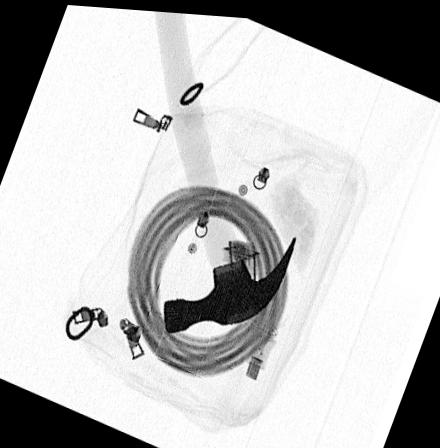Hammer: (153, 9, 297, 331)
